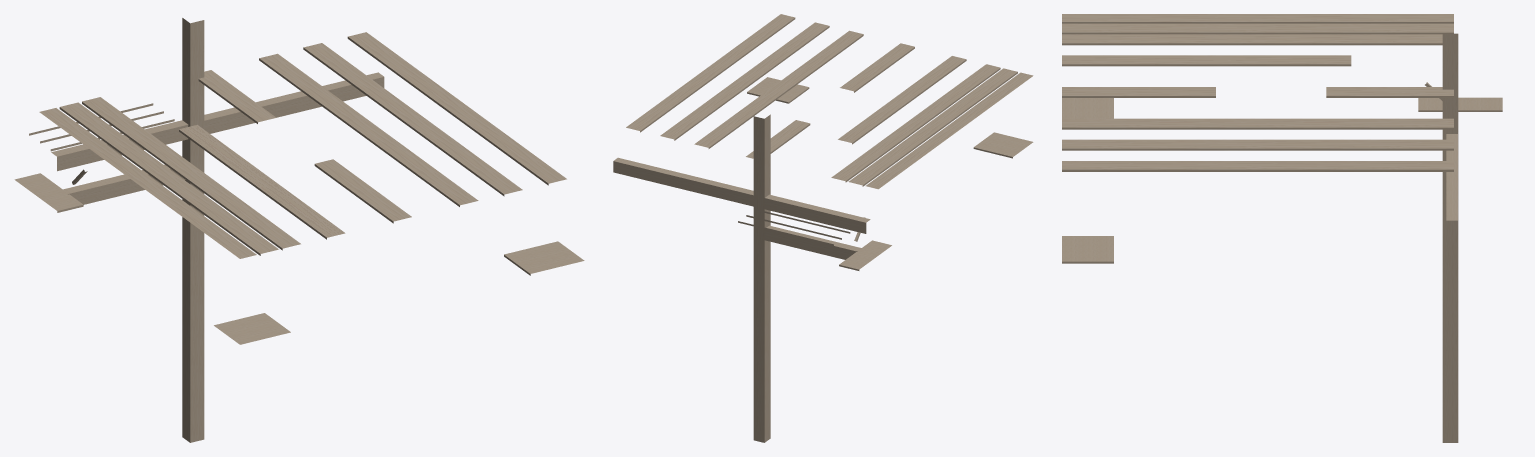
The model's file is kd_stage_135b75_4_18_bounded.glb.
3 renders of one model, left to right at view 1: azimuth 30°, elevation 25°; view 2: azimuth 150°, elevation 25°; view 3: azimuth 270°, elevation 25°, orthographic. The views are drawn at different scales.
Parts seen in each view (by area): view 1: kd_stage_135b75_4_18_bounded; view 2: kd_stage_135b75_4_18_bounded; view 3: kd_stage_135b75_4_18_bounded.
Part boxes in pixels (x1,y1,x2,y2): kd_stage_135b75_4_18_bounded: (14,18,584,442); kd_stage_135b75_4_18_bounded: (613,14,1033,442); kd_stage_135b75_4_18_bounded: (1062,14,1502,442).
Bounding box in the file's own units: 3.7 × 4.3 × 4.37.
1 material, 1 textured.
